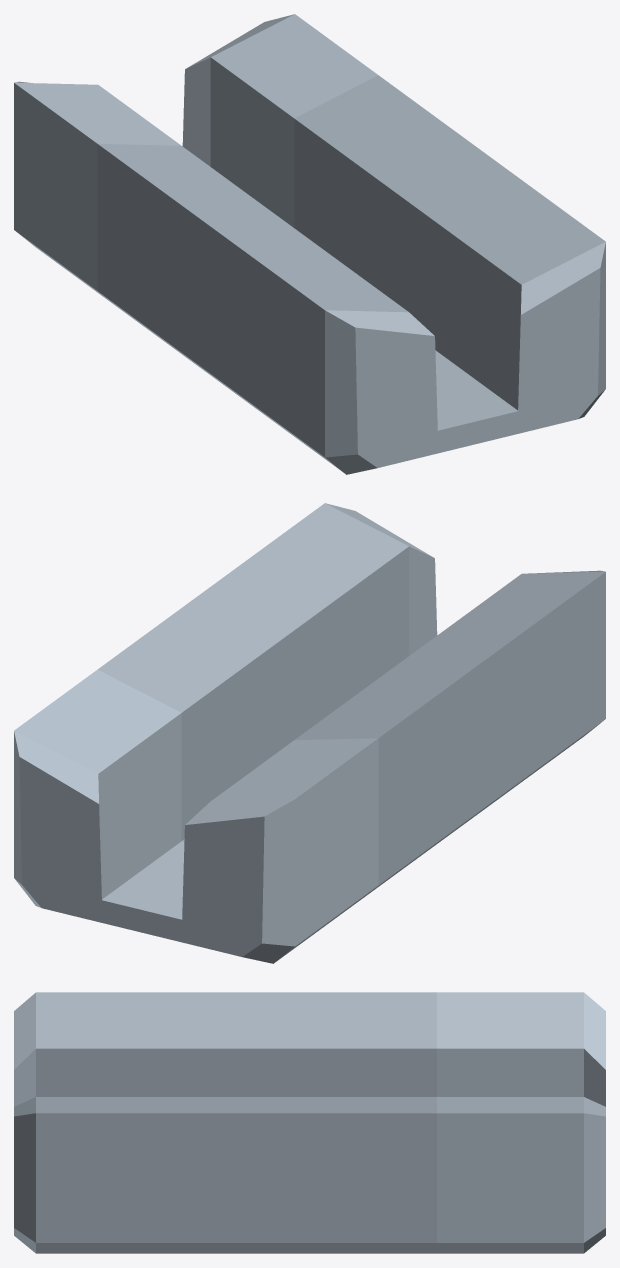
Rendered from pillar_transport_c.glb.
3 renders of one model, top to bottom at view 1: azimuth 30°, elevation 25°; view 2: azimuth 150°, elevation 25°; view 3: azimuth 270°, elevation 25°, orthographic. The views are drawn at different scales.
Parts seen in each view (by area): view 1: pillar_transport_c; view 2: pillar_transport_c; view 3: pillar_transport_c.
Boxes of the visible parts, x1,y1,x2,y2 form: pillar_transport_c: (14,14,605,474); pillar_transport_c: (14,503,605,963); pillar_transport_c: (14,992,605,1253).
Bounding box in the file's own units: 4.3 × 2.48 × 8.9.
